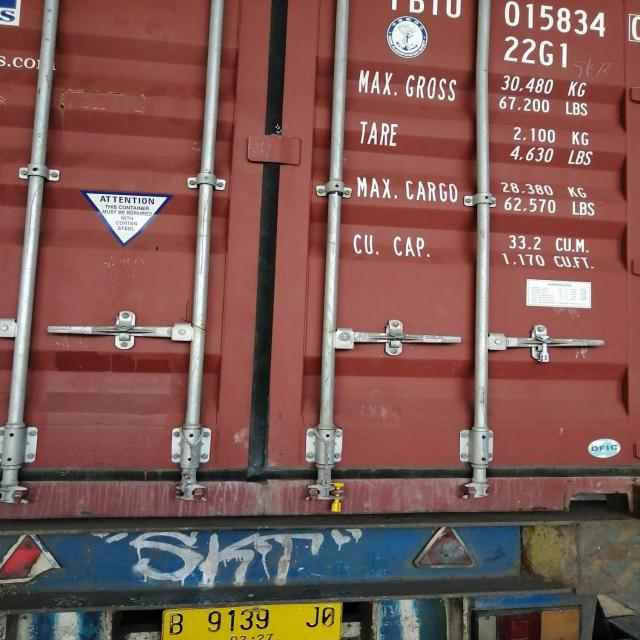seal: (325, 479, 350, 512), (534, 334, 556, 365)
